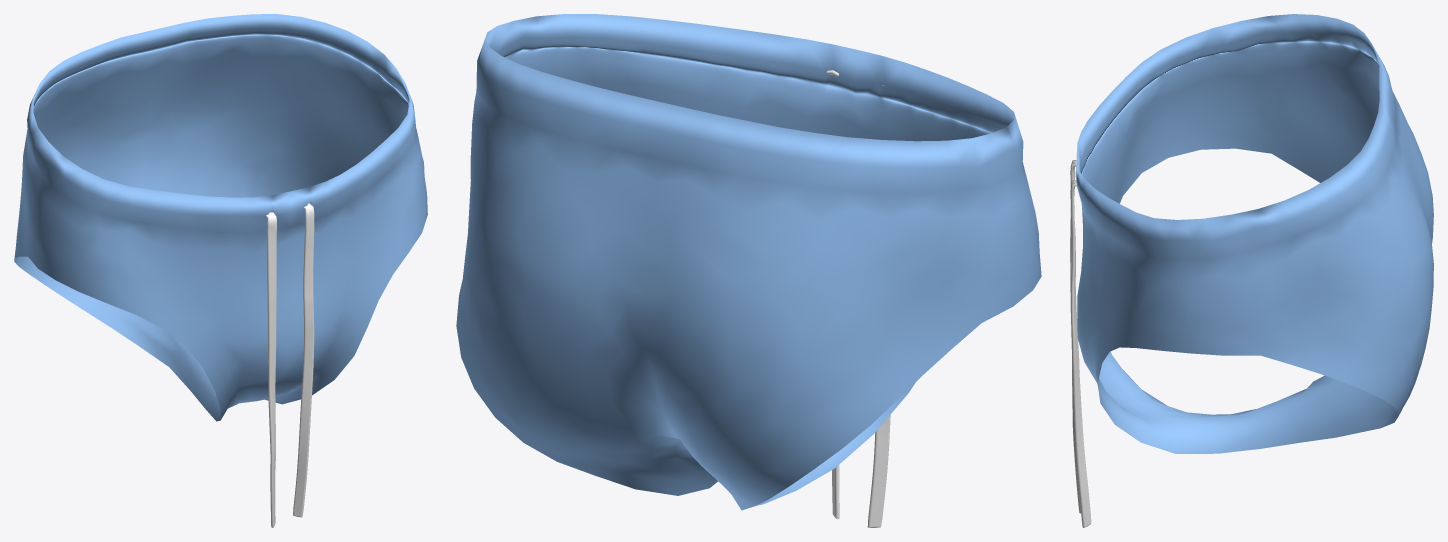
Rendered from SwimBrief_thin_color.glb.
3 renders of one model, left to right at view 1: azimuth 30°, elevation 25°; view 2: azimuth 150°, elevation 25°; view 3: azimuth 270°, elevation 25°, orthographic. The views are drawn at different scales.
Visible parts, largest first — view 1: Cloth, Trim; view 2: Cloth, Trim; view 3: Cloth, Trim.
Part boxes in pixels (box(x1,y1,x2,y2)): Cloth: box(14, 14, 427, 421); Trim: box(265, 203, 314, 527); Cloth: box(456, 14, 1041, 510); Trim: box(826, 70, 890, 527); Cloth: box(1076, 14, 1433, 453); Trim: box(1070, 160, 1091, 527).
Size of the model in its own units: 34.49 by 35.2 by 26.41.
